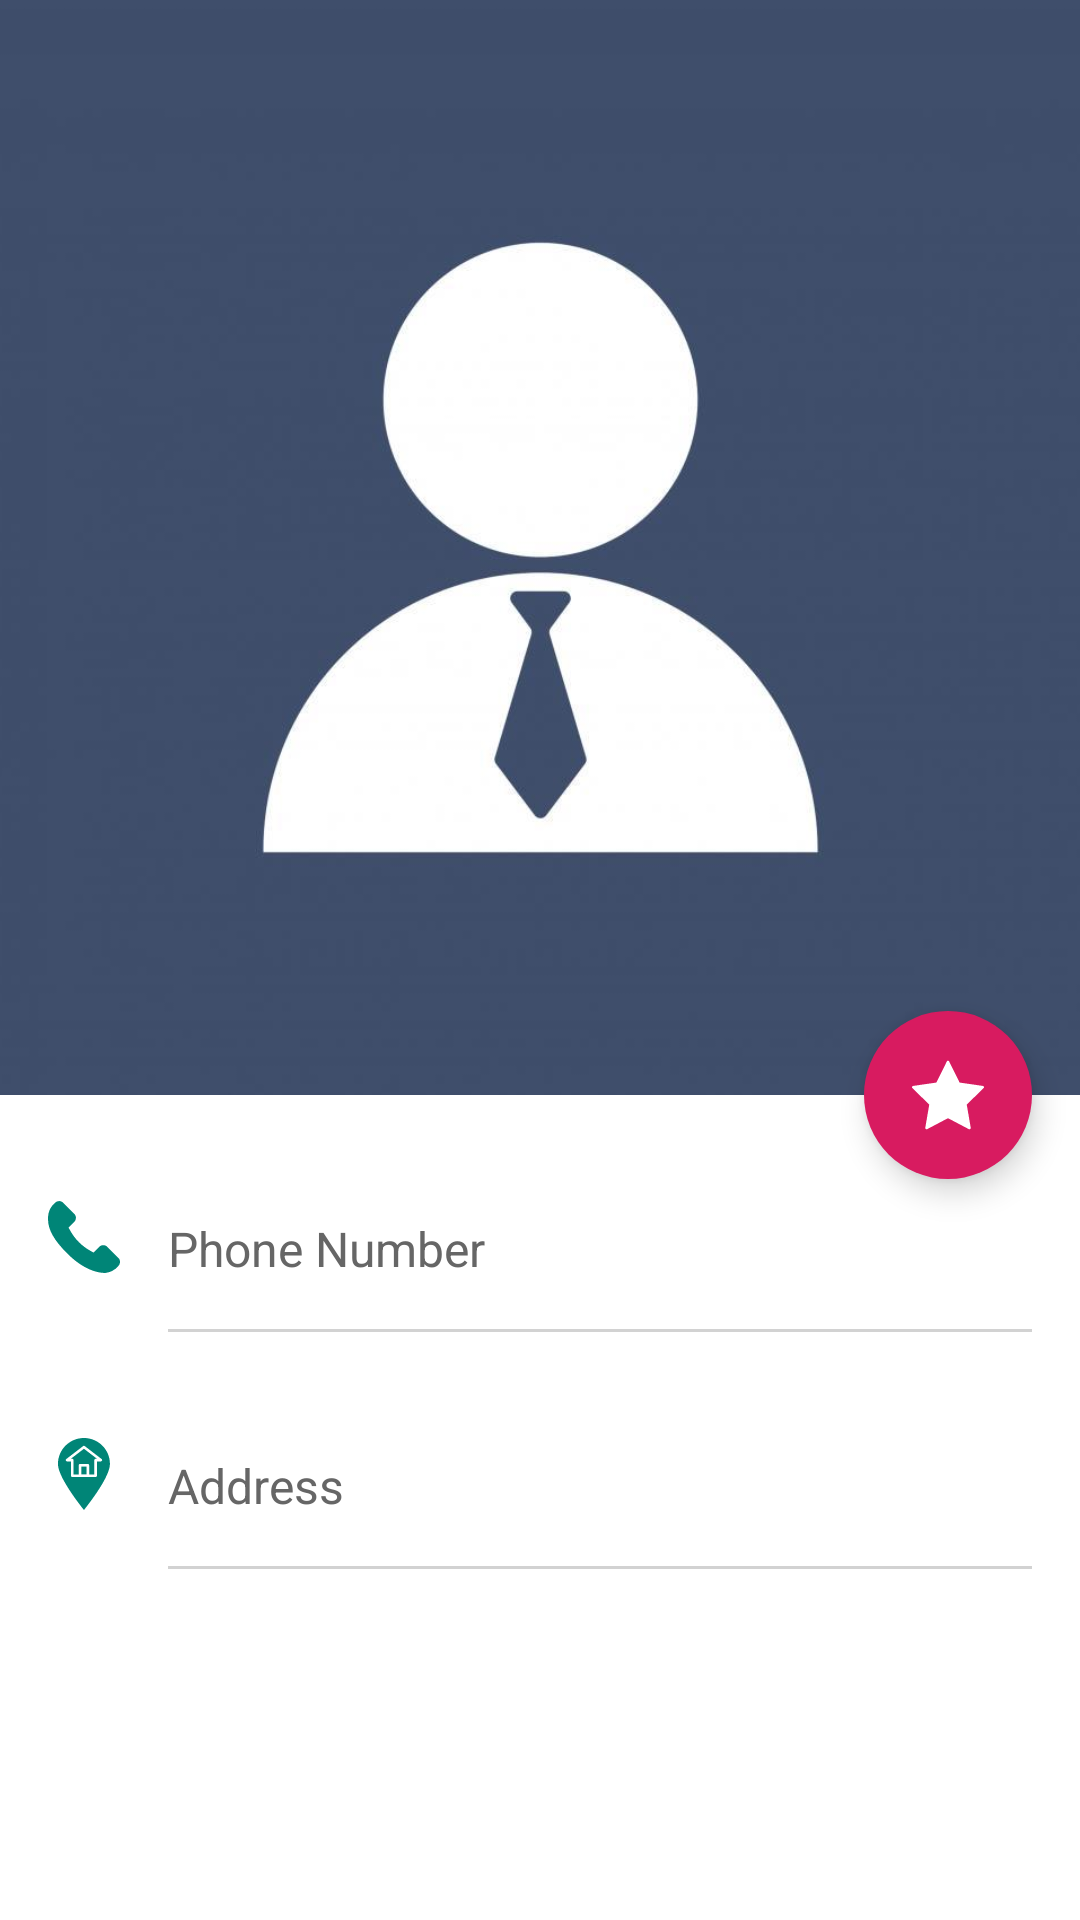

Icons on this 1080 x 1920 Android screen, each with the point to tap as point (x, y):
star: point (948, 1095)
